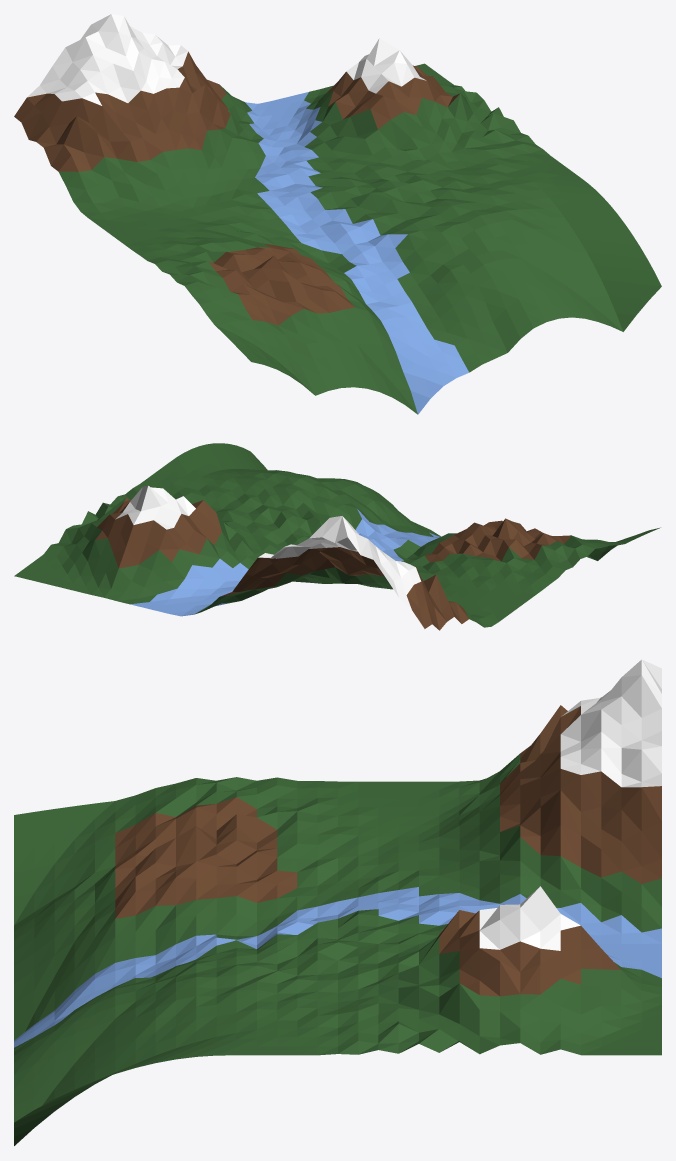
Rendered from Cenario.fbx.
The picture shows the model from 3 angles, top to bottom: view 1: azimuth 30°, elevation 25°; view 2: azimuth 150°, elevation 25°; view 3: azimuth 270°, elevation 25°; orthographic projection. The views are drawn at different scales.
Parts seen in each view (by area): view 1: Cenario; view 2: Cenario; view 3: Cenario.
Part boxes in pixels (box(x1,y1,x2,y2)): Cenario: box(14, 14, 661, 414); Cenario: box(14, 443, 660, 630); Cenario: box(14, 659, 661, 1145).
Bounding box in the file's own units: 1432 × 837 × 1432.
